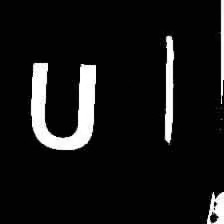LTR_U: (26, 51, 101, 156)
